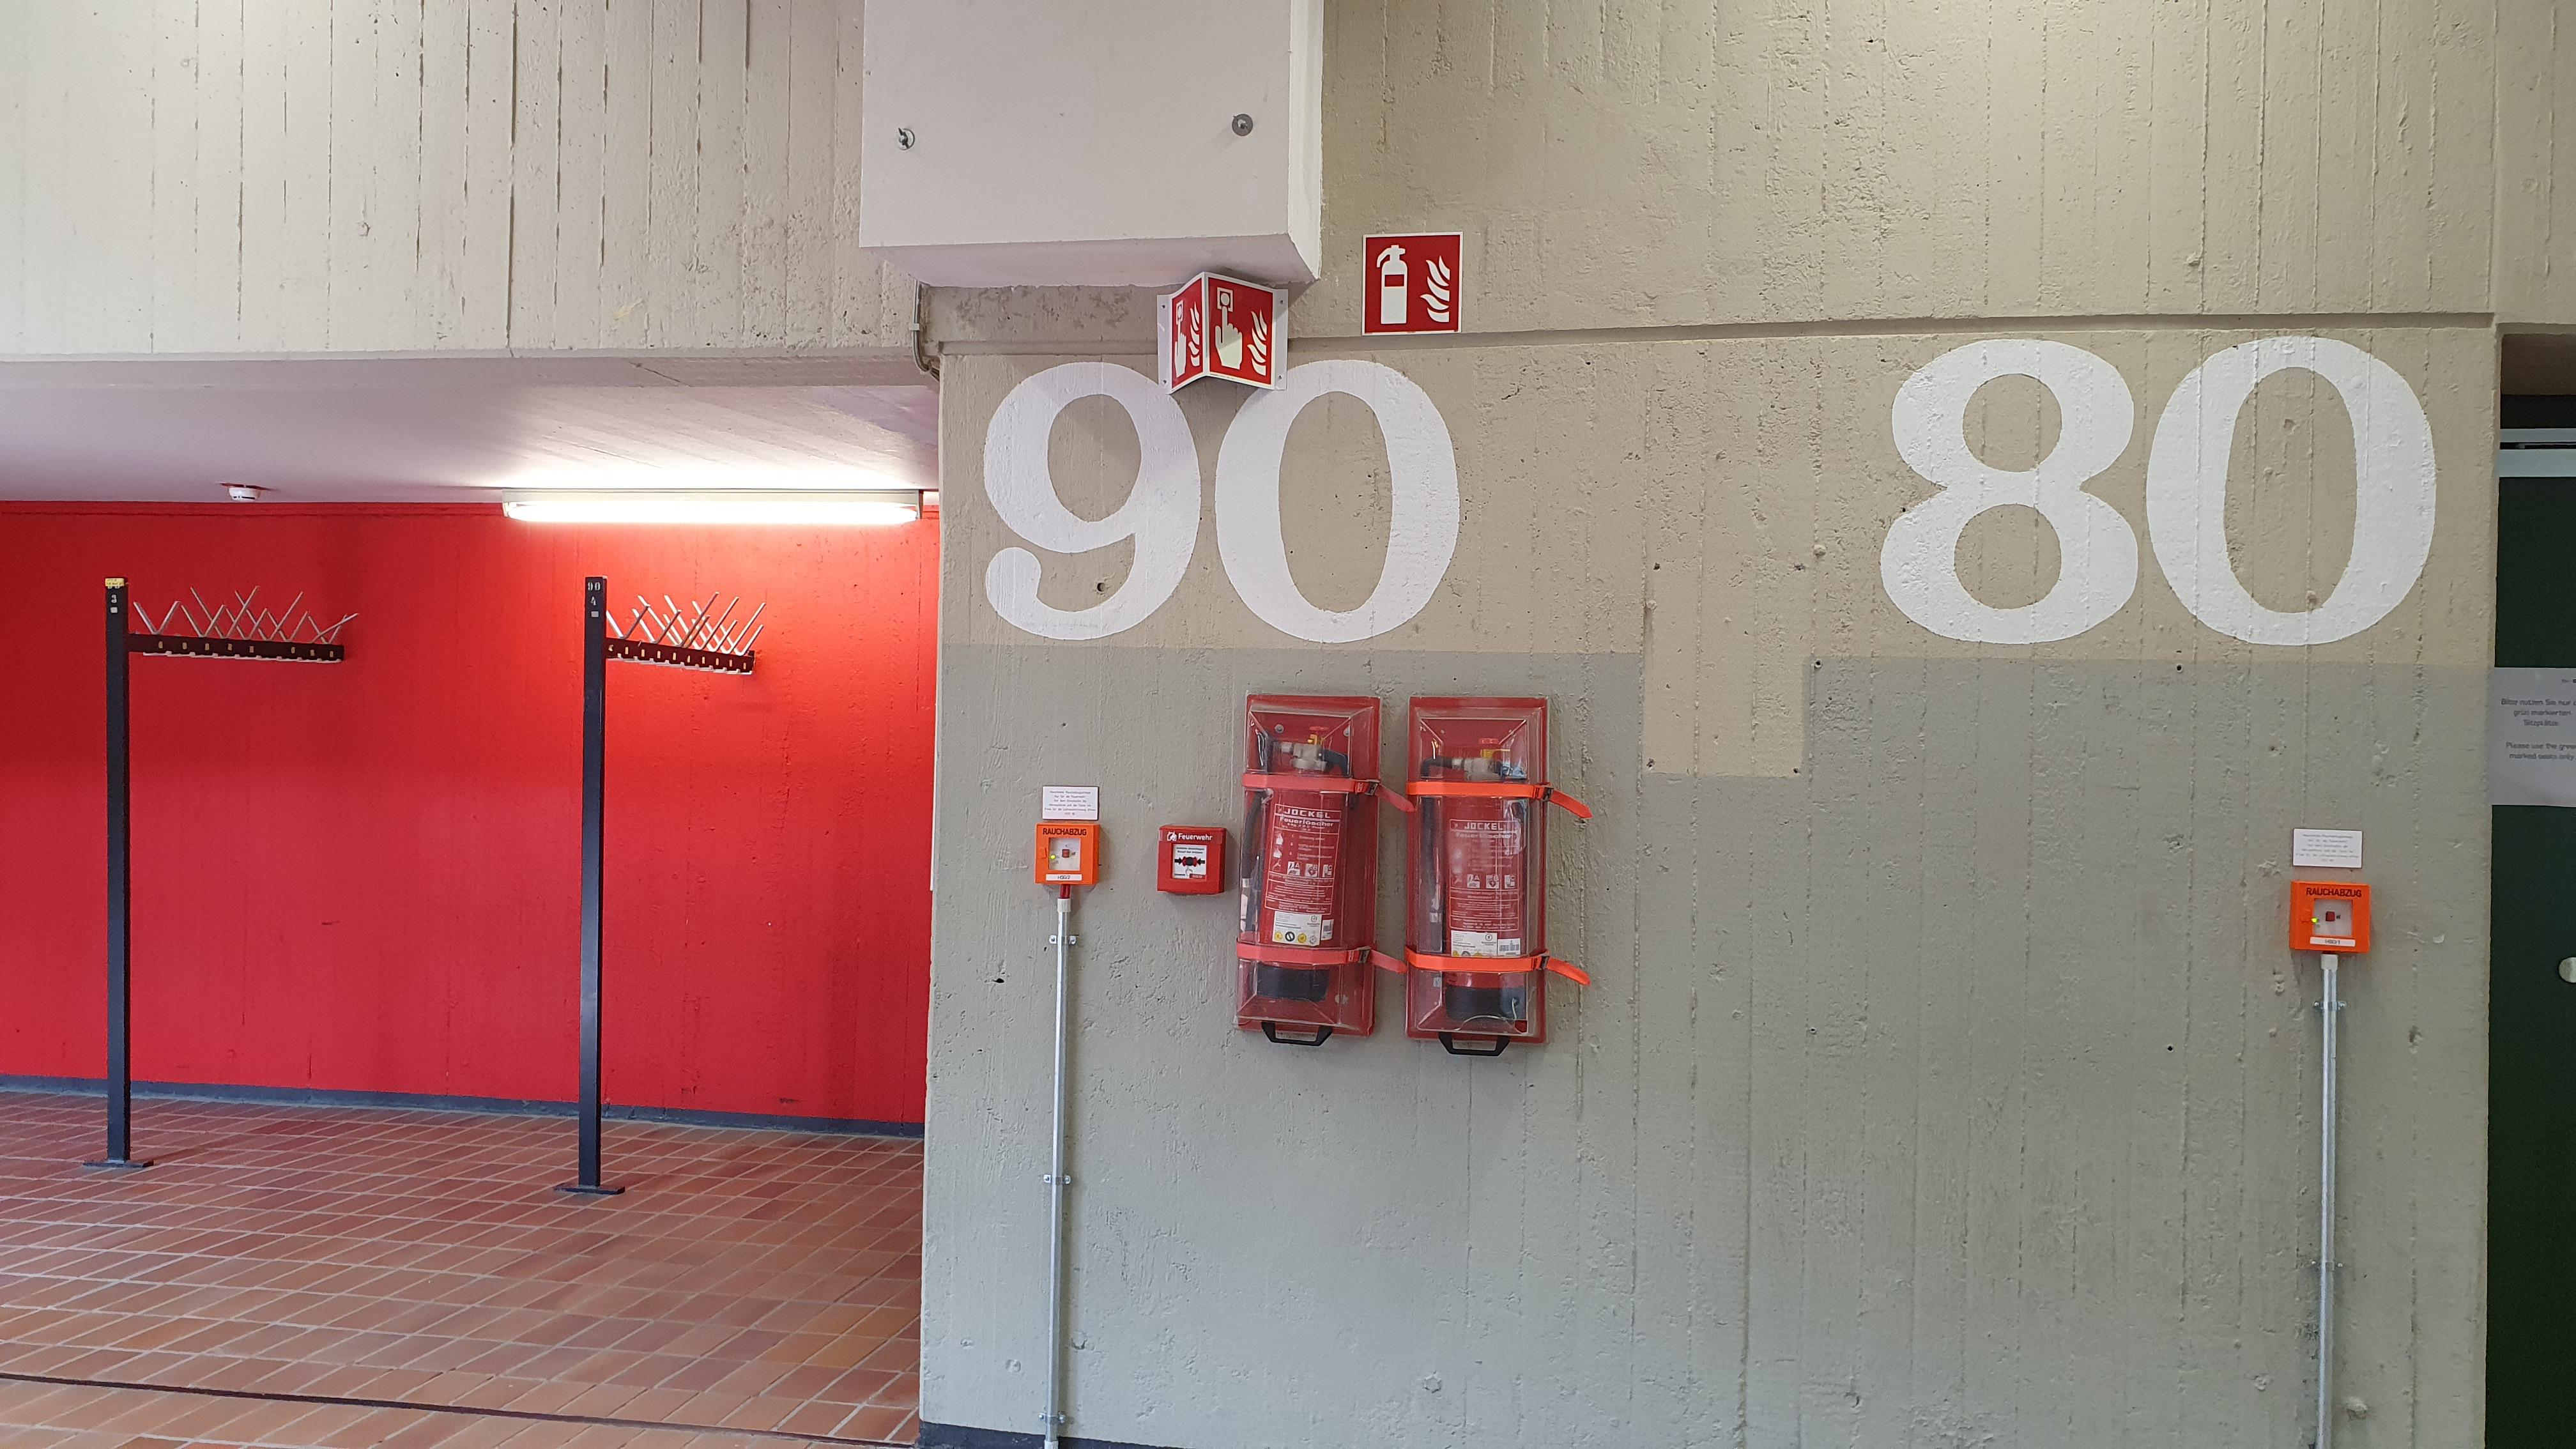call_point: (1157, 824, 1228, 895), (1033, 823, 1102, 886)
extinguisher: (1231, 694, 1384, 1039), (1405, 697, 1548, 1046)
